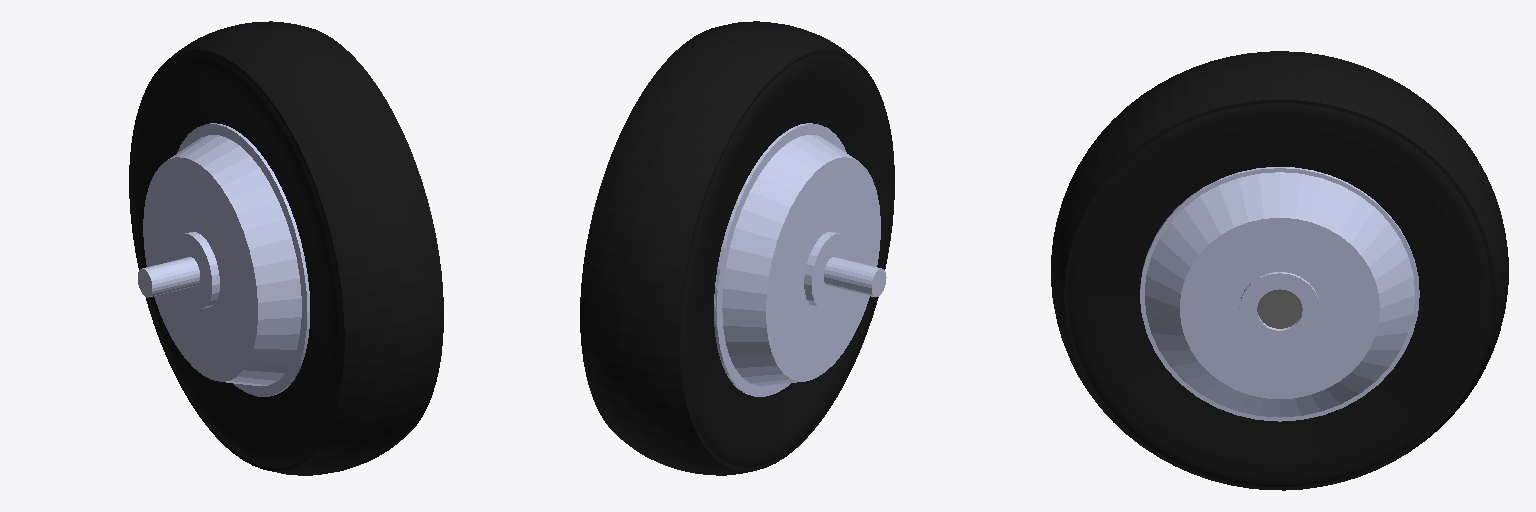
File: front_wheel.obj
3 views of the same model, side by side, from view 1: azimuth 30°, elevation 25°; view 2: azimuth 150°, elevation 25°; view 3: azimuth 270°, elevation 25° (orthographic).
Parts seen in each view (by area): view 1: _3DGeom_25, _3DGeom_27; view 2: _3DGeom_25, _3DGeom_27; view 3: _3DGeom_25, _3DGeom_27, _3DGeom_26.
Boxes of the visible parts, <box> form: _3DGeom_25: <box>129,21,443,475</box>; _3DGeom_27: <box>138,123,309,396</box>; _3DGeom_25: <box>580,21,894,475</box>; _3DGeom_27: <box>714,123,886,396</box>; _3DGeom_25: <box>1051,51,1508,490</box>; _3DGeom_27: <box>1140,167,1419,421</box>; _3DGeom_26: <box>1257,289,1302,328</box>.
Size of the model in its own units: 0.1118 by 0.2 by 0.1999.